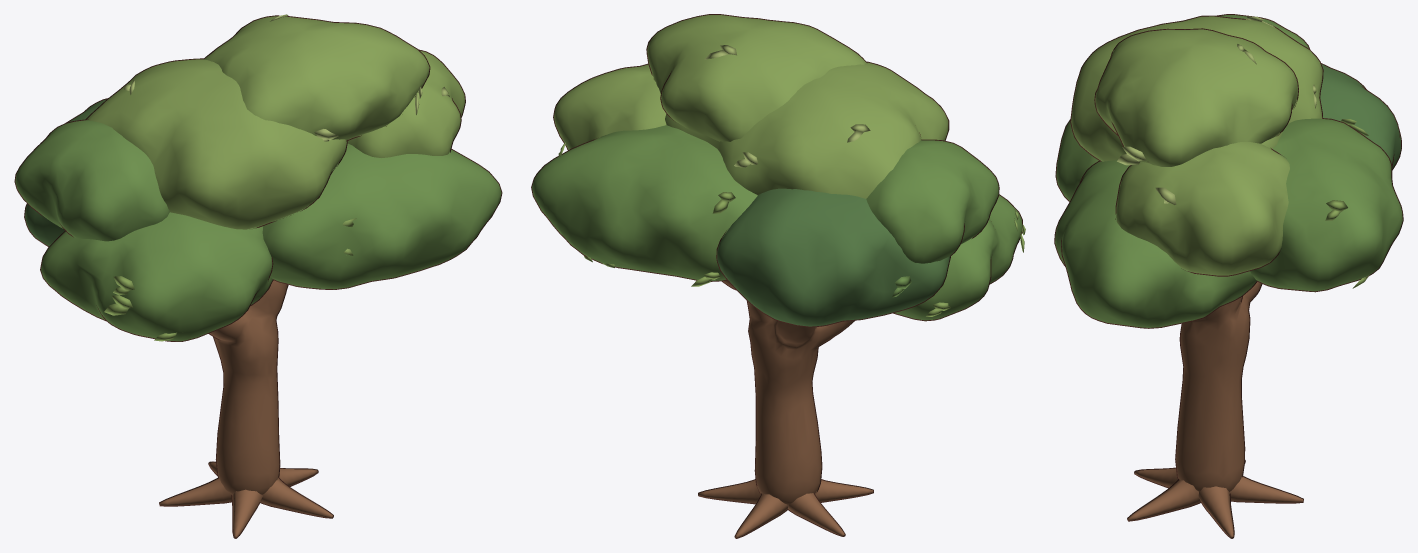
Rendered from eiche.glb.
The picture shows the model from 3 angles, left to right: view 1: azimuth 30°, elevation 25°; view 2: azimuth 150°, elevation 25°; view 3: azimuth 270°, elevation 25°; orthographic projection. The views are drawn at different scales.
Parts seen in each view (by area): view 1: Crown_1_Mesh.002, Crown_5_Mesh.002, Trunk_Branches.003, Outline_Crown_SummerGreen_1, Outline_Trunk_Bark_Warm, Crown_3_Mesh.002, Outline_Crown_SummerGreen_2, LeafDetails_SummerGreen_2; view 2: Crown_5_Mesh.002, Crown_1_Mesh.002, Crown_3_Mesh.002, Trunk_Branches.003, Outline_Trunk_Bark_Warm, Outline_Crown_SummerGreen_1, LeafDetails_SummerGreen_2, Outline_Crown_SummerGreen_2, LeafDetails_SummerGreen_3; view 3: Crown_5_Mesh.002, Crown_1_Mesh.002, Trunk_Branches.003, Crown_3_Mesh.002, Outline_Crown_SummerGreen_2, Outline_Crown_SummerGreen_1, Outline_Trunk_Bark_Warm, LeafDetails_SummerGreen_3, LeafDetails_SummerGreen_2.
Boxes of the visible parts, x1,y1,x2,y2 form: Crown_1_Mesh.002: (15,120,501,341); Crown_5_Mesh.002: (86,16,465,229); Trunk_Branches.003: (159,280,333,537); Outline_Crown_SummerGreen_1: (14,119,502,341); Outline_Trunk_Bark_Warm: (159,284,333,538); Crown_3_Mesh.002: (25,99,106,246); Outline_Crown_SummerGreen_2: (85,15,465,228); LeafDetails_SummerGreen_2: (104,218,356,341); Crown_5_Mesh.002: (554,15,948,198); Crown_1_Mesh.002: (532,125,1021,320); Crown_3_Mesh.002: (717,188,950,326); Trunk_Branches.003: (698,280,873,537); Outline_Trunk_Bark_Warm: (698,281,873,538); Outline_Crown_SummerGreen_1: (531,138,1022,321); LeafDetails_SummerGreen_2: (558,141,1025,316); Outline_Crown_SummerGreen_2: (553,14,949,150); LeafDetails_SummerGreen_3: (704,45,870,167); Crown_5_Mesh.002: (1071,16,1322,275); Crown_1_Mesh.002: (1055,15,1402,327); Trunk_Branches.003: (1128,282,1303,537); Crown_3_Mesh.002: (1320,64,1401,169); Outline_Crown_SummerGreen_2: (1070,15,1323,276); Outline_Crown_SummerGreen_1: (1054,14,1403,328); Outline_Trunk_Bark_Warm: (1127,284,1303,538); LeafDetails_SummerGreen_3: (1117,16,1317,204); LeafDetails_SummerGreen_2: (1325,119,1369,288).
Size of the model in its own units: 6.88 by 7.22 by 4.77.
